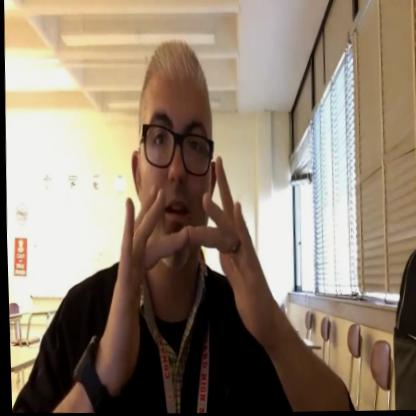Internet: (97, 153, 274, 413)
